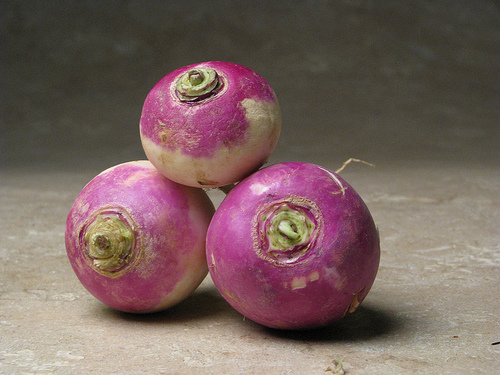turnip: (205, 160, 381, 330), (66, 161, 216, 315), (139, 59, 284, 190)
